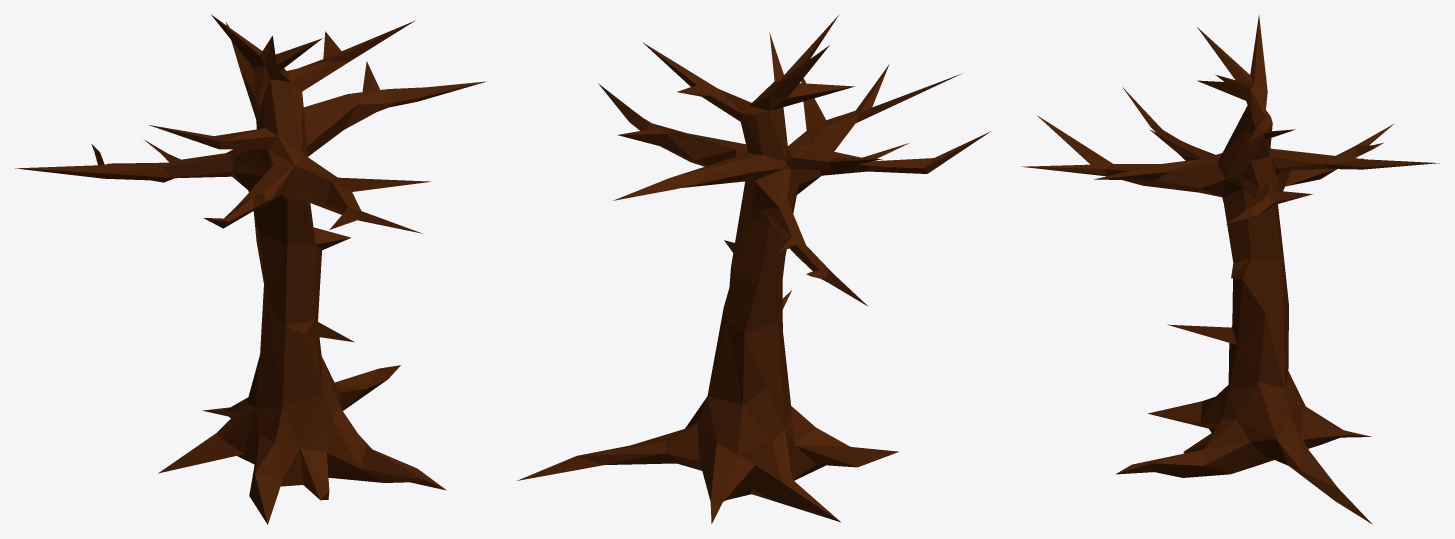
The model's file is DeadTree_C.fbx.
3 renders of one model, left to right at view 1: azimuth 30°, elevation 25°; view 2: azimuth 150°, elevation 25°; view 3: azimuth 270°, elevation 25°, orthographic. The views are drawn at different scales.
Parts seen in each view (by area): view 1: DeadTree_C; view 2: DeadTree_C; view 3: DeadTree_C.
Part boxes in pixels (x1=…): DeadTree_C: x1=15, y1=14, x2=486, y2=524; DeadTree_C: x1=517, y1=15, x2=990, y2=523; DeadTree_C: x1=1021, y1=15, x2=1439, y2=524.
Size of the model in its own units: 432 by 524 by 481.
